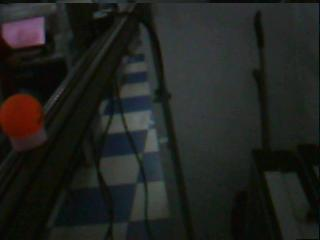oball: (0, 94, 43, 136)
